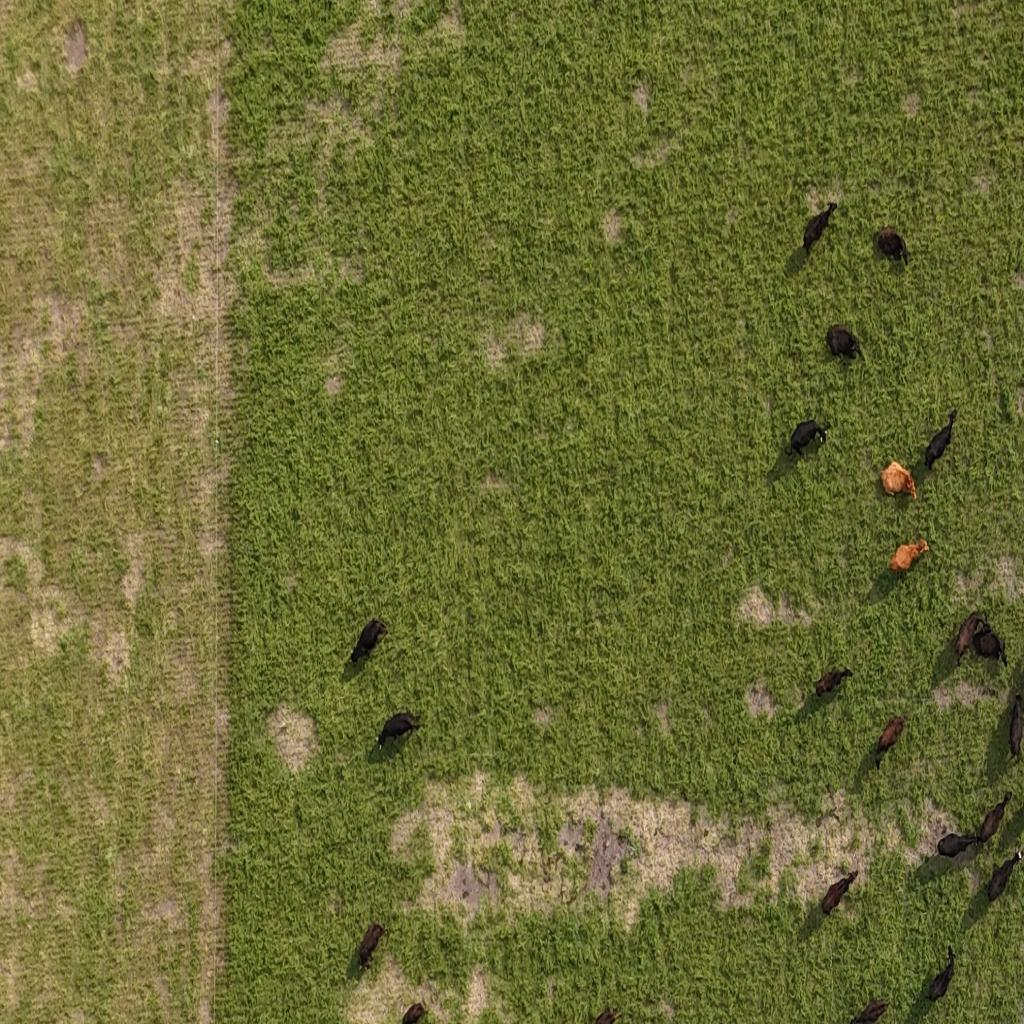cow: (370, 706, 426, 758), (348, 617, 390, 671), (922, 410, 957, 473), (352, 920, 386, 980), (975, 790, 1011, 846), (988, 845, 1024, 901), (782, 416, 826, 460), (802, 202, 836, 257), (821, 867, 859, 916), (873, 716, 906, 770), (926, 944, 956, 1002), (873, 224, 910, 270), (954, 612, 986, 664), (972, 623, 1009, 667), (825, 323, 863, 364), (880, 462, 918, 502), (889, 539, 929, 576), (936, 830, 979, 860), (814, 667, 854, 698), (851, 996, 890, 1024), (1013, 693, 1024, 761), (402, 1002, 428, 1024), (594, 1006, 622, 1024)
